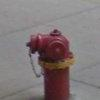Hydrant: (22, 17, 88, 98)
